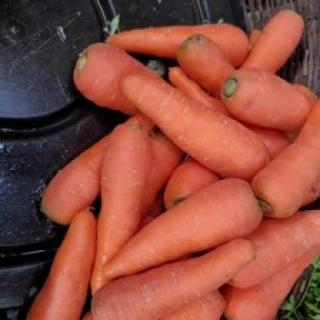Wortel: (118, 74, 272, 183), (98, 178, 264, 279), (90, 234, 262, 320), (218, 67, 320, 134)
